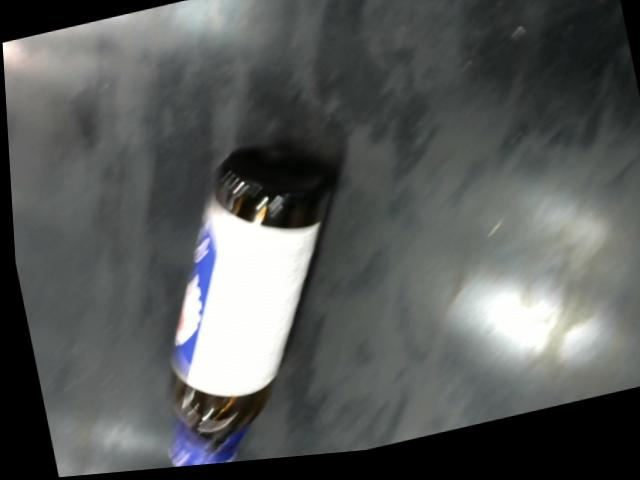glass: (151, 130, 349, 471)
